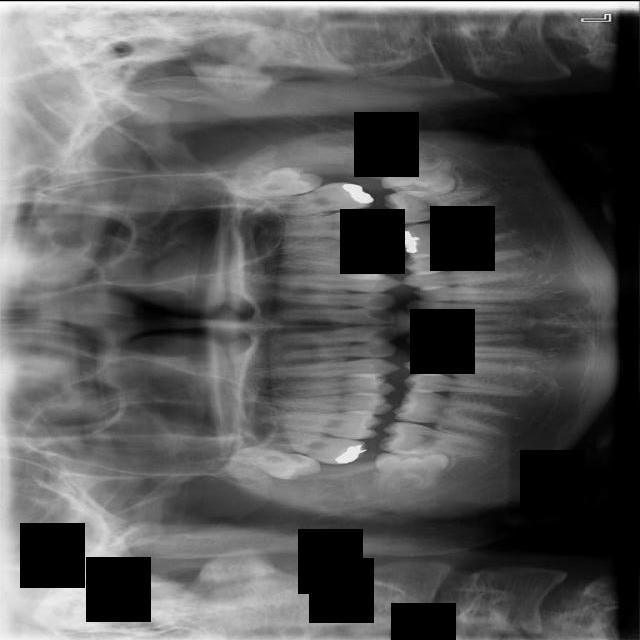3M ESPE Implant: (220, 440, 323, 485)
52: (394, 211, 446, 266), (308, 433, 367, 468), (313, 179, 375, 212)
73: (592, 17, 608, 24)
BioHorizons Implant: (231, 176, 375, 225)
BioLife Implant: (208, 161, 325, 203)
Biomet 3i Implant: (379, 147, 459, 204)
Blue Sky Bio Implant: (382, 185, 500, 225)
Caries: (240, 422, 369, 470)
Implant: (379, 420, 483, 457)
Keystone Dental Implant: (373, 444, 452, 493)
